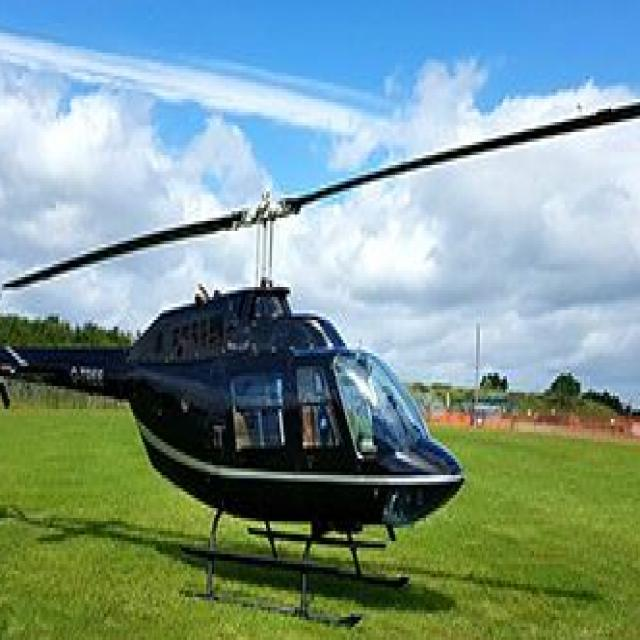helicopter: (1, 93, 640, 638)
